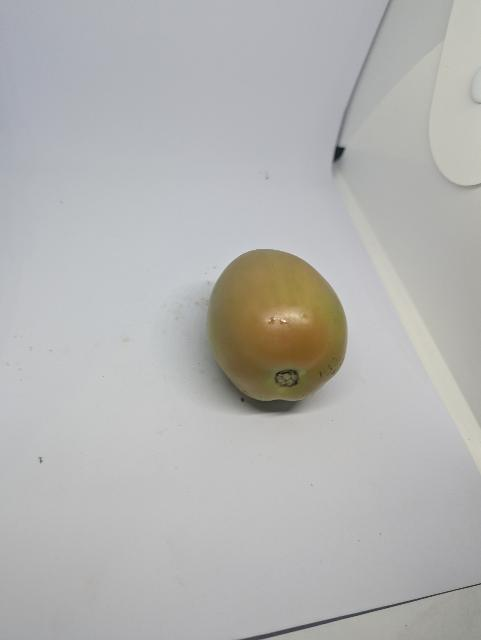breaker: (187, 239, 359, 427)
